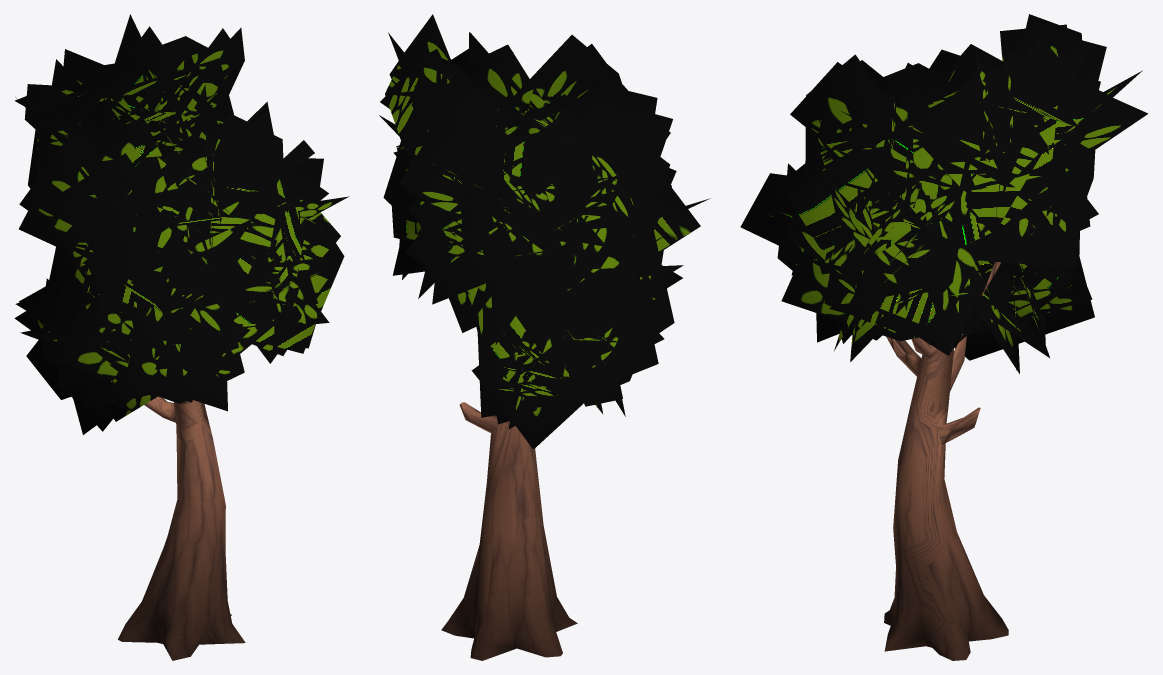
The model's file is CommonTree_5.gltf.
The picture shows the model from 3 angles, left to right: view 1: azimuth 30°, elevation 25°; view 2: azimuth 150°, elevation 25°; view 3: azimuth 270°, elevation 25°; orthographic projection. The views are drawn at different scales.
Parts seen in each view (by area): view 1: CommonTree_5; view 2: CommonTree_5; view 3: CommonTree_5.
Part boxes in pixels (<box>): CommonTree_5: <box>14,14,349,660</box>; CommonTree_5: <box>379,14,710,660</box>; CommonTree_5: <box>740,14,1148,660</box>.
Bounding box in the file's own units: 3.58 × 7.01 × 4.22.
2 materials, 2 textured.
